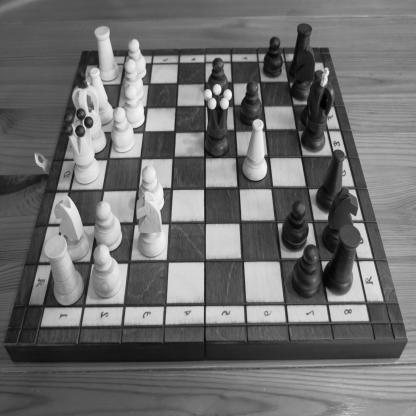black-bishop: (315, 148, 346, 214), (300, 70, 325, 129)
black-king: (300, 67, 336, 153)
black-knight: (322, 188, 358, 256), (290, 44, 316, 102)
black-pawn: (291, 242, 323, 299), (280, 198, 309, 252), (240, 80, 263, 126), (207, 56, 229, 103), (262, 36, 283, 79)
black-queen: (203, 83, 233, 158)
black-rook: (322, 223, 361, 295), (288, 22, 312, 80)
white-bishop: (241, 118, 269, 183), (90, 67, 114, 126)
white-king: (71, 69, 107, 155)
white-knight: (53, 195, 90, 263), (135, 191, 167, 258)
white-pawn: (91, 243, 122, 299), (94, 199, 123, 252), (138, 164, 165, 212), (110, 106, 136, 153), (122, 83, 146, 130), (122, 59, 145, 102), (126, 39, 147, 80)
white-queen: (63, 108, 101, 185)
white-rook: (44, 234, 85, 306), (94, 25, 119, 81)
